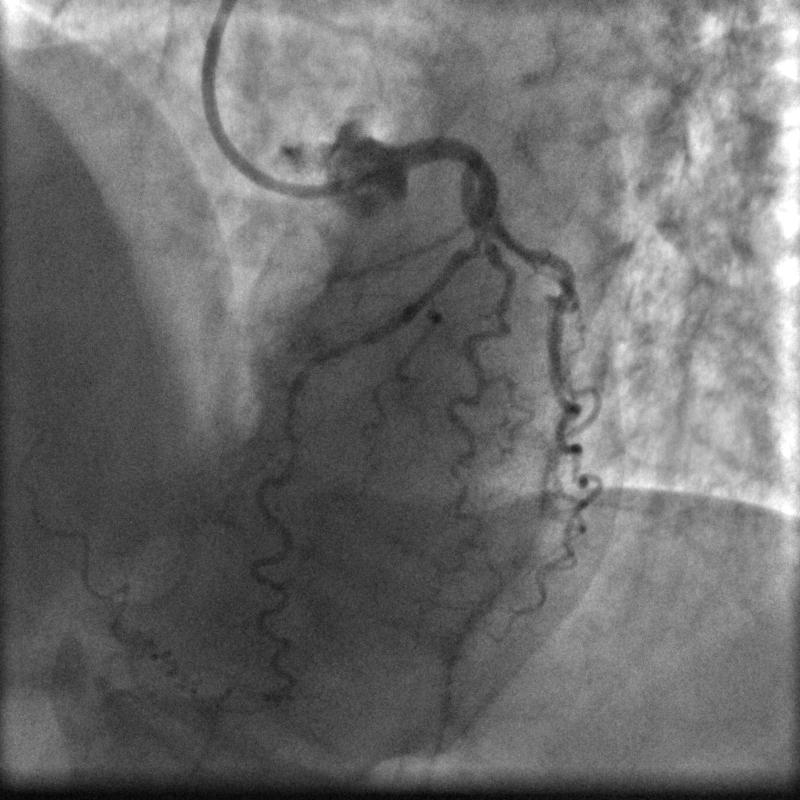Stenosis: (472, 222, 496, 254)
